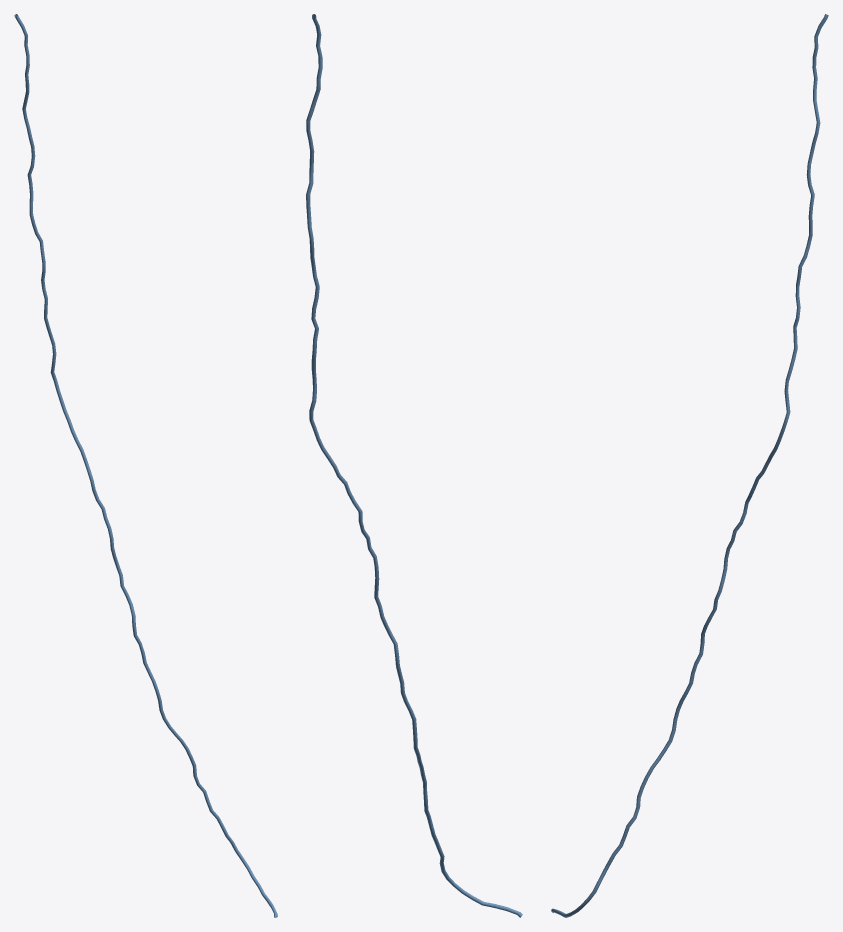
Rendered from sweep316.fbx.
The picture shows the model from 3 angles, left to right: view 1: azimuth 90°, elevation 25°; view 2: azimuth 150°, elevation 25°; view 3: azimuth 270°, elevation 25°; orthographic projection. The views are drawn at different scales.
Visible parts, largest first — view 1: sweep316; view 2: sweep316; view 3: sweep316.
Boxes of the visible parts, x1,y1,x2,y2 form: sweep316: (14,14,277,917); sweep316: (306,14,522,917); sweep316: (551,14,828,917).
Size of the model in its own units: 0.484 by 5.24 by 1.42.
